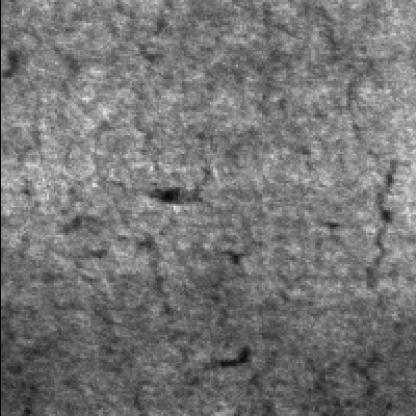crazing: (239, 146, 395, 416), (62, 233, 256, 406)
